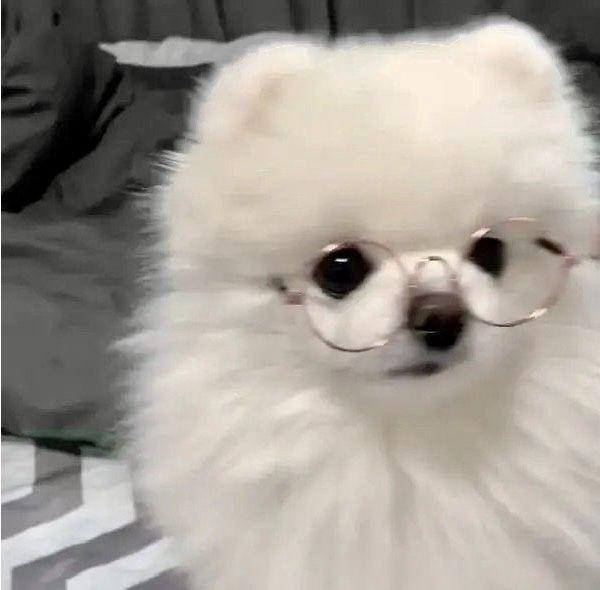puppy-dog: (122, 17, 600, 590)
